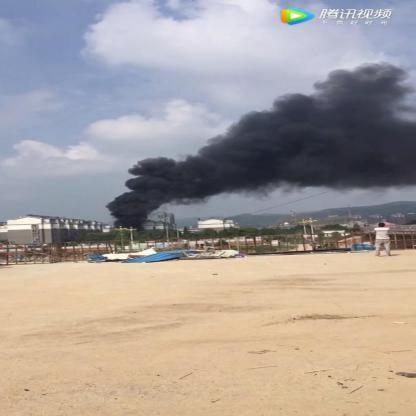smoke: (258, 63, 411, 118), (197, 119, 409, 157), (260, 158, 414, 186), (128, 160, 260, 192), (100, 190, 162, 228), (166, 192, 218, 208)
